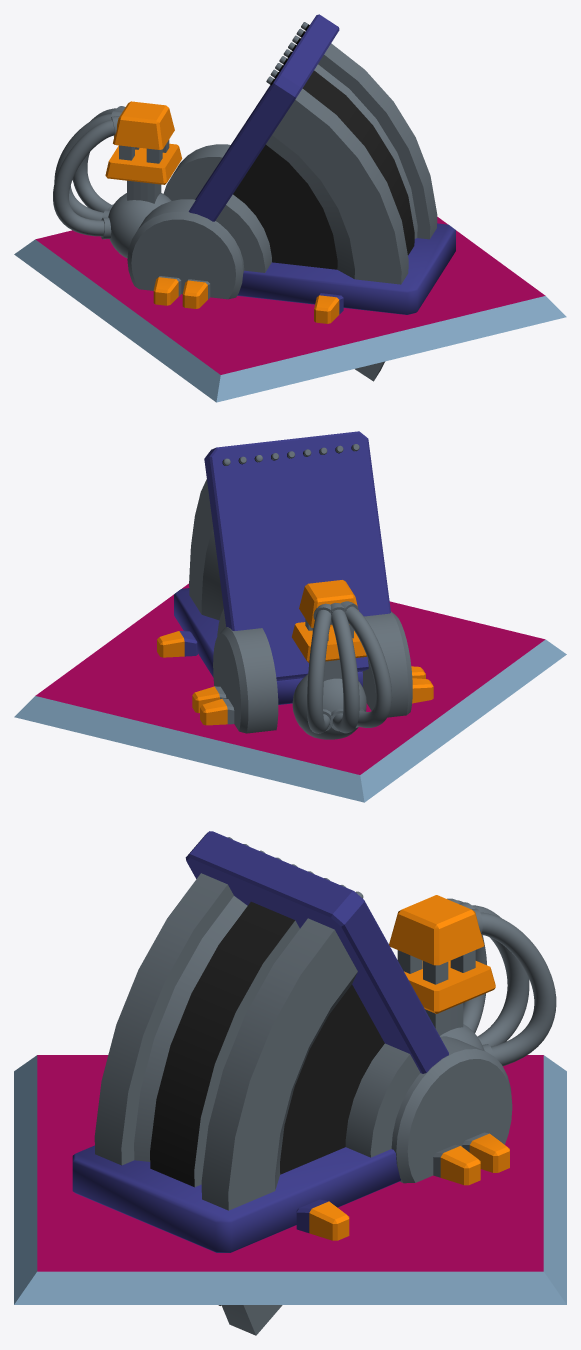
Rendered from 70_Haarvester_FOMO6.fbx.
The picture shows the model from 3 angles, top to bottom: view 1: azimuth 30°, elevation 25°; view 2: azimuth 150°, elevation 25°; view 3: azimuth 270°, elevation 25°; orthographic projection. The views are drawn at different scales.
Visible parts, largest first — view 1: foundation6, polySurface52, pCylinder90, pCube119, pCube118, pCube122, pCylinder104, pSphere53, pCylinder257, pCylinder103, pCylinder139, pCube152 (+3 smaller); view 2: foundation6, pCube118, pCylinder257, polySurface52, pCylinder90, pCube122, pCylinder104, pCylinder103, pCube119, pCylinder139, pSphere53, pCube150 (×2) (+2 smaller); view 3: foundation6, polySurface52, pCube119, pCube118, pCylinder257, pCube122, pCylinder139, pCylinder103, pCube151, pCube150, polySurface63, pCube149 (+2 smaller).
Part boxes in pixels (left/top/right/bottom): foundation6: left=14, top=217, right=566, bottom=402; polySurface52: left=215, top=43, right=437, bottom=381; pCylinder90: left=127, top=199, right=244, bottom=299; pCube119: left=237, top=223, right=455, bottom=314; pCube118: left=188, top=14, right=339, bottom=221; pCube122: left=105, top=101, right=182, bottom=184; pCylinder104: left=53, top=116, right=119, bottom=239; pSphere53: left=108, top=180, right=171, bottom=258; pCylinder257: left=163, top=144, right=230, bottom=200; pCylinder103: left=54, top=111, right=122, bottom=220; pCylinder139: left=72, top=106, right=125, bottom=212; pCube152: left=314, top=293, right=343, bottom=323; foundation6: left=14, top=583, right=566, bottom=802; pCube118: left=204, top=431, right=390, bottom=680; pCylinder257: left=213, top=627, right=278, bottom=733; polySurface52: left=189, top=479, right=225, bottom=635; pCylinder90: left=362, top=611, right=412, bottom=717; pCube122: left=292, top=580, right=366, bottom=662; pCylinder104: left=340, top=601, right=392, bottom=727; pCylinder103: left=329, top=602, right=359, bottom=733; pCube119: left=174, top=588, right=362, bottom=704; pCylinder139: left=307, top=603, right=332, bottom=733; pSphere53: left=292, top=660, right=366, bottom=739; pCube150 (×2): left=192, top=678, right=433, bottom=713; foundation6: left=14, top=1055, right=566, bottom=1304; polySurface52: left=94, top=873, right=420, bottom=1335; pCube119: left=72, top=1145, right=400, bottom=1252; pCube118: left=185, top=831, right=448, bottom=1073; pCylinder257: left=391, top=1036, right=512, bottom=1183; pCube122: left=389, top=895, right=495, bottom=1013; pCylinder139: left=471, top=908, right=556, bottom=1065; pCylinder103: left=459, top=902, right=529, bottom=1046; pCube151: left=296, top=1199, right=349, bottom=1240; pCube150: left=433, top=1144, right=480, bottom=1185; polySurface63: left=397, top=950, right=475, bottom=984; pCube149: left=462, top=1132, right=509, bottom=1172.
Size of the model in its own units: 78.74 by 64.06 by 78.76.
